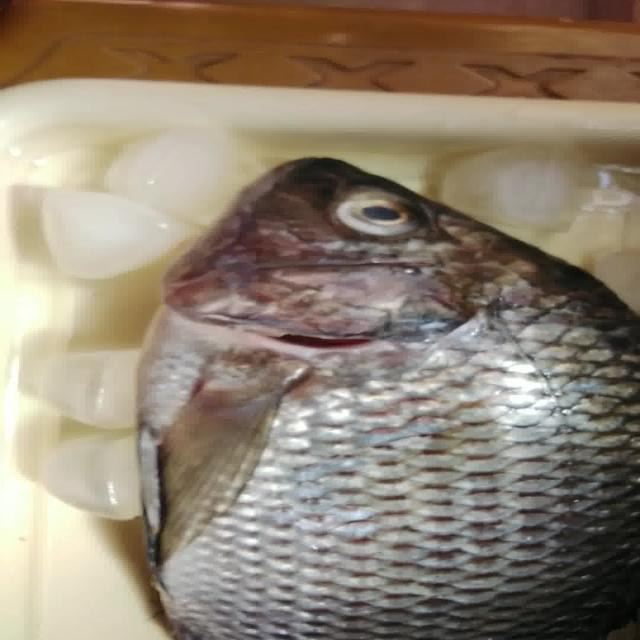Fresh: (166, 270, 592, 540), (310, 186, 434, 244)
